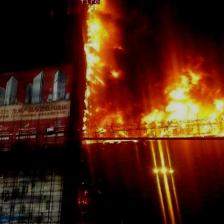fire: (79, 0, 224, 139)
